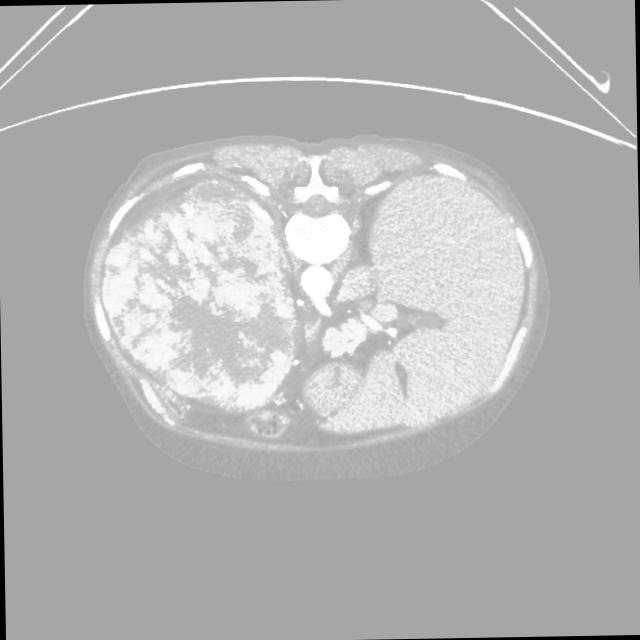TUMOR: (0, 146, 292, 435)
